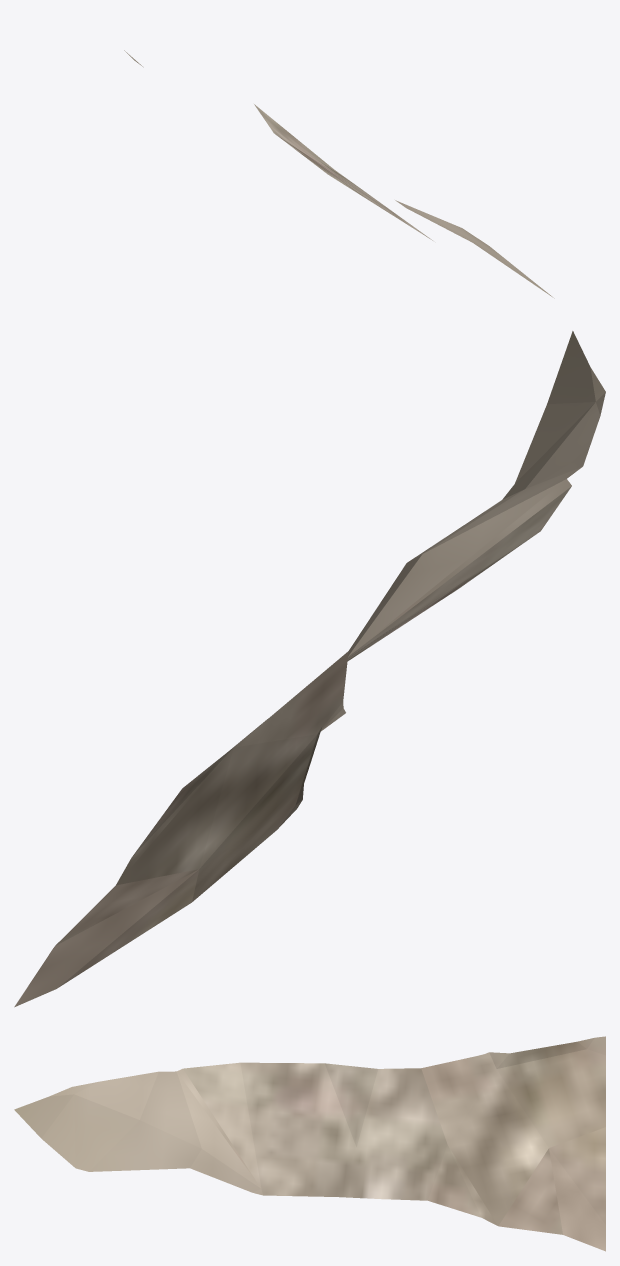
3 renders of one model, top to bottom at view 1: azimuth 30°, elevation 25°; view 2: azimuth 150°, elevation 25°; view 3: azimuth 270°, elevation 25°, orthographic. The views are drawn at different scales.
Bounding box in the file's own units: 0.2503 × 0.2262 × 0.8551.
Materials: 1 (1 with a texture image).
